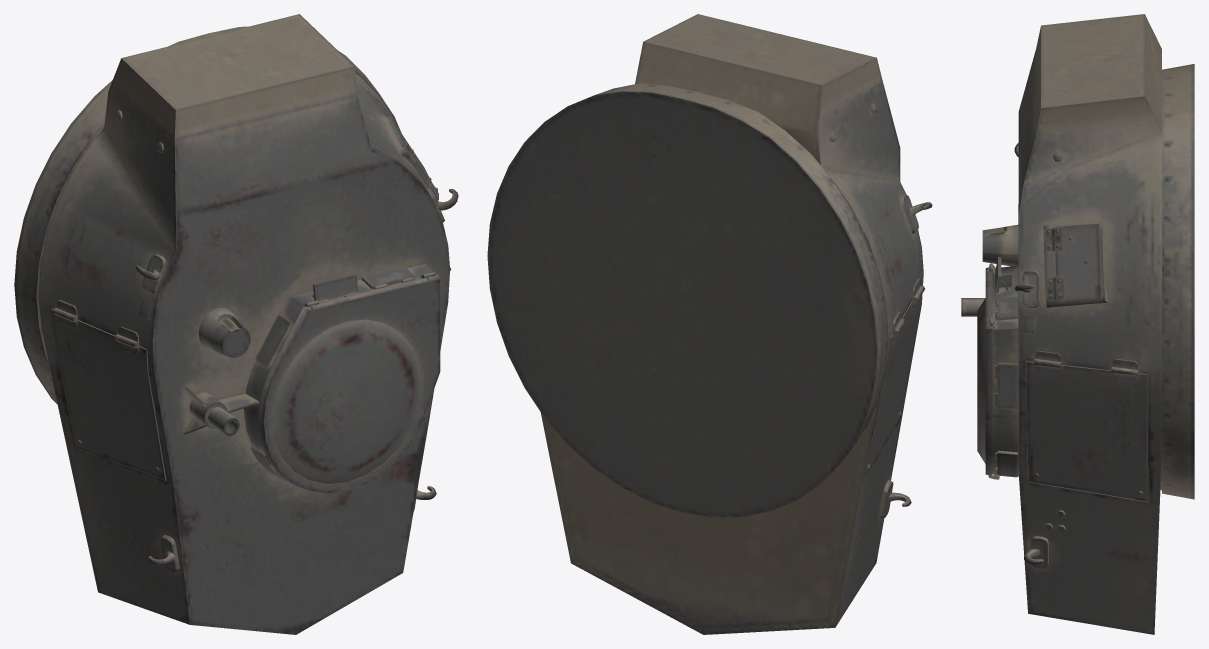
File: Turret_01.glb
The picture shows the model from 3 angles, left to right: view 1: azimuth 30°, elevation 25°; view 2: azimuth 150°, elevation 25°; view 3: azimuth 270°, elevation 25°; orthographic projection. The views are drawn at different scales.
Visible parts, largest first — view 1: set_0_group_0; view 2: set_0_group_0; view 3: set_0_group_0.
Part boxes in pixels (x1=…): set_0_group_0: x1=14, y1=14, x2=458, y2=634; set_0_group_0: x1=487, y1=14, x2=932, y2=634; set_0_group_0: x1=961, y1=14, x2=1194, y2=634.
Bounding box in the file's own units: 1.37 × 1.93 × 0.7498.
Materials: 1 (1 with a texture image).
